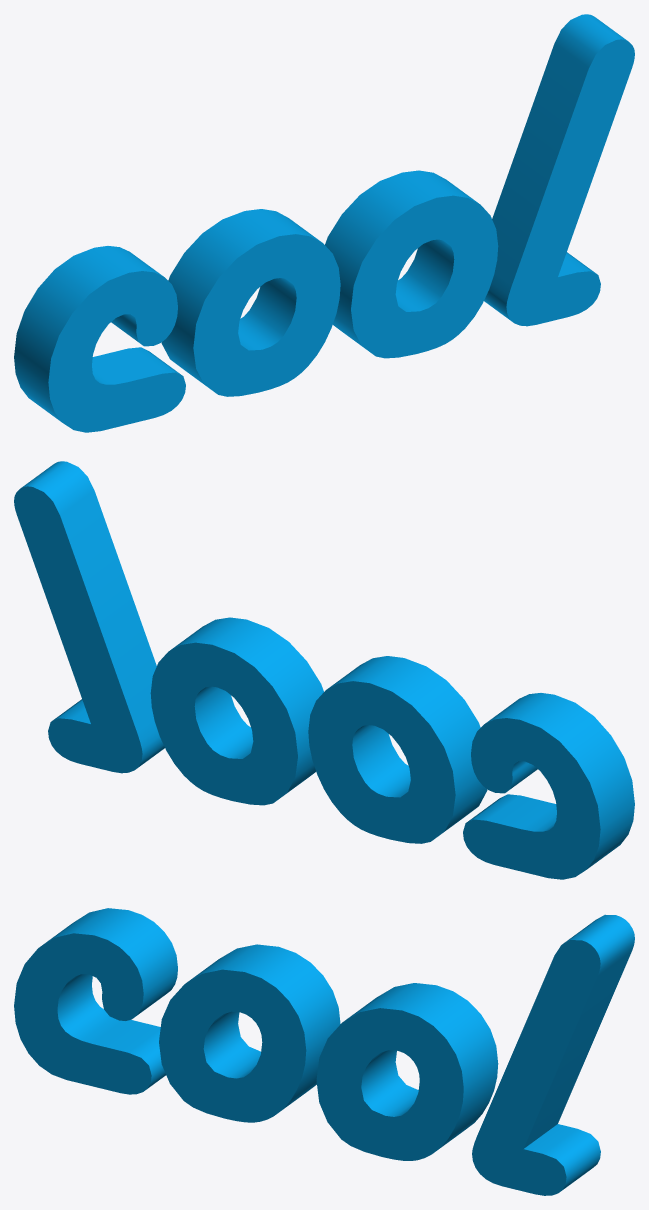
The model's file is cool.fbx.
3 views of the same model, one above another, from view 1: azimuth 30°, elevation 25°; view 2: azimuth 150°, elevation 25°; view 3: azimuth 330°, elevation 25° (orthographic).
Visible parts, largest first — view 1: node_id50; view 2: node_id50; view 3: node_id50.
Part boxes in pixels (x1,y1,x2,y2): node_id50: (14,14,634,432); node_id50: (14,461,634,879); node_id50: (14,908,634,1195).
Bounding box in the file's own units: 0.1476 × 0.0638 × 0.015.
